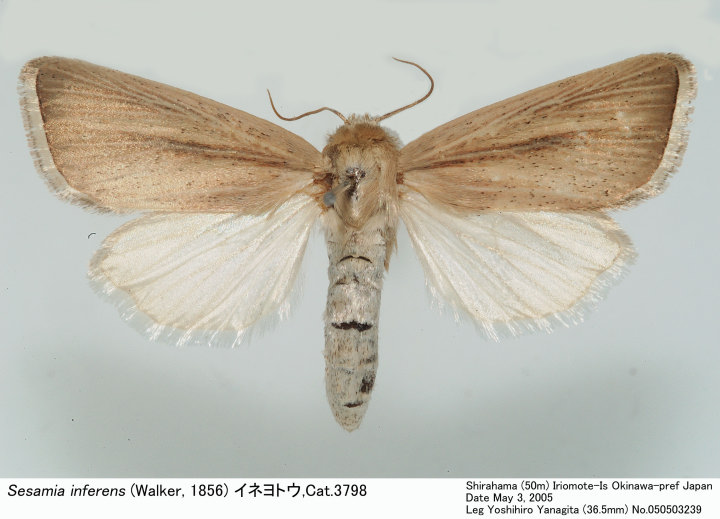Noctuidae: (16, 52, 699, 436)
